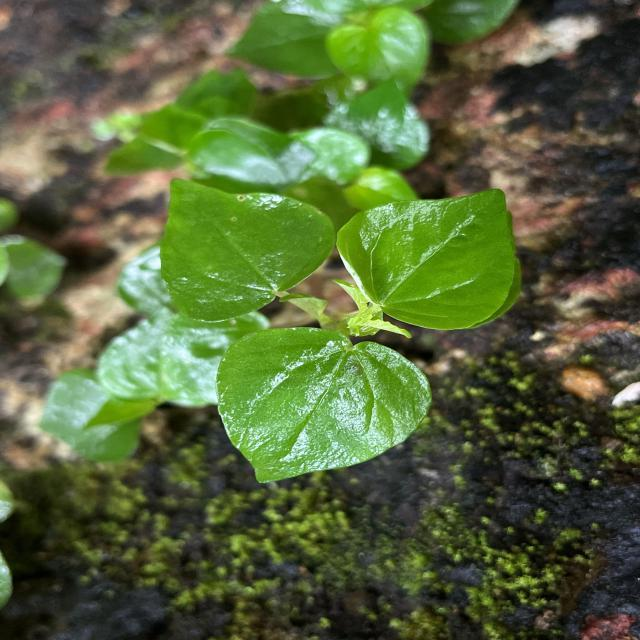Peperomia pellucida: (213, 324, 436, 486), (158, 177, 343, 326), (334, 186, 518, 333)
